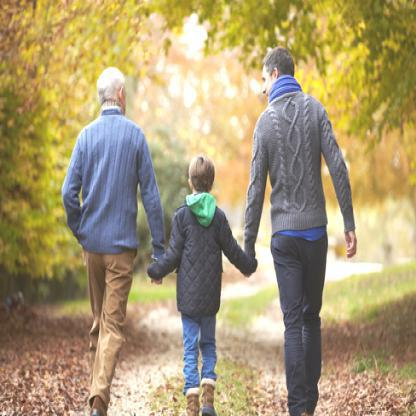person: (246, 48, 358, 414), (68, 66, 162, 415), (160, 156, 248, 414)
